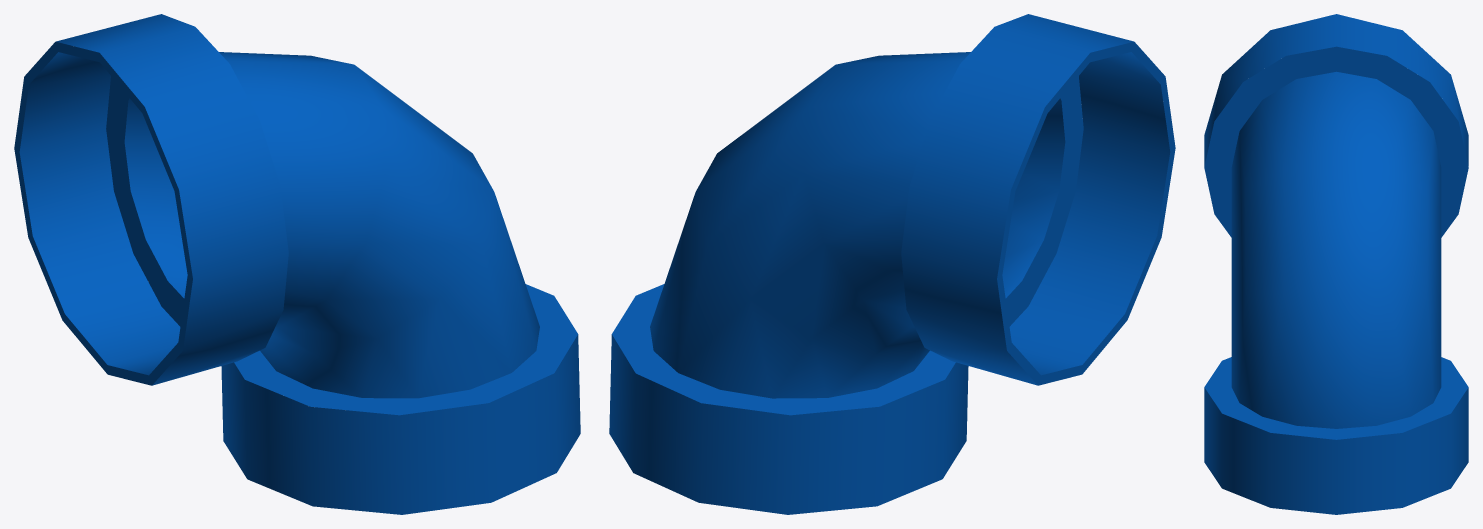
File: b75f6325-1bae-456e-826e-3fbb7b5d2e63.glb
The picture shows the model from 3 angles, left to right: view 1: azimuth 30°, elevation 25°; view 2: azimuth 150°, elevation 25°; view 3: azimuth 270°, elevation 25°; orthographic projection. The views are drawn at different scales.
Visible parts, largest first — view 1: 1349, 1349_4377; view 2: 1349, 1349_4377; view 3: 1349, 1349_4377.
Part boxes in pixels (<box>): 1349: <box>19,14,580,514</box>; 1349_4377: <box>14,41,577,415</box>; 1349: <box>609,14,1170,514</box>; 1349_4377: <box>612,41,1175,415</box>; 1349: <box>1204,14,1468,514</box>; 1349_4377: <box>1204,46,1468,439</box>.
Size of the model in its own units: 0.5112 by 0.4971 by 0.3463.
